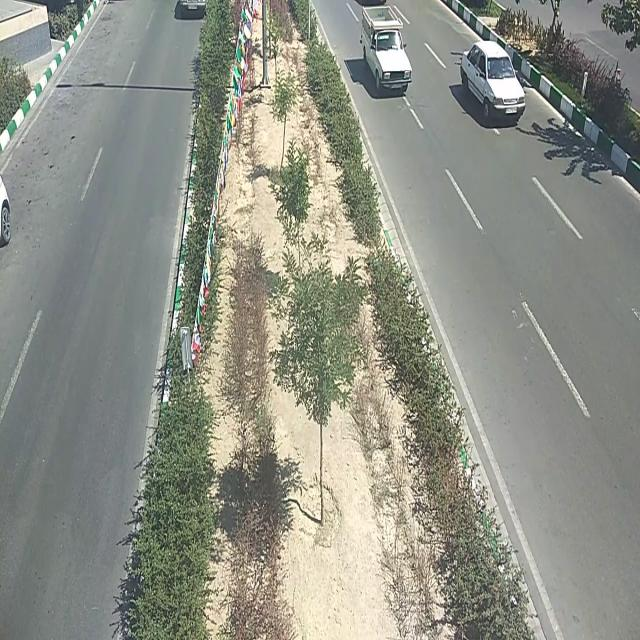car: (459, 38, 527, 123), (360, 8, 414, 88)
